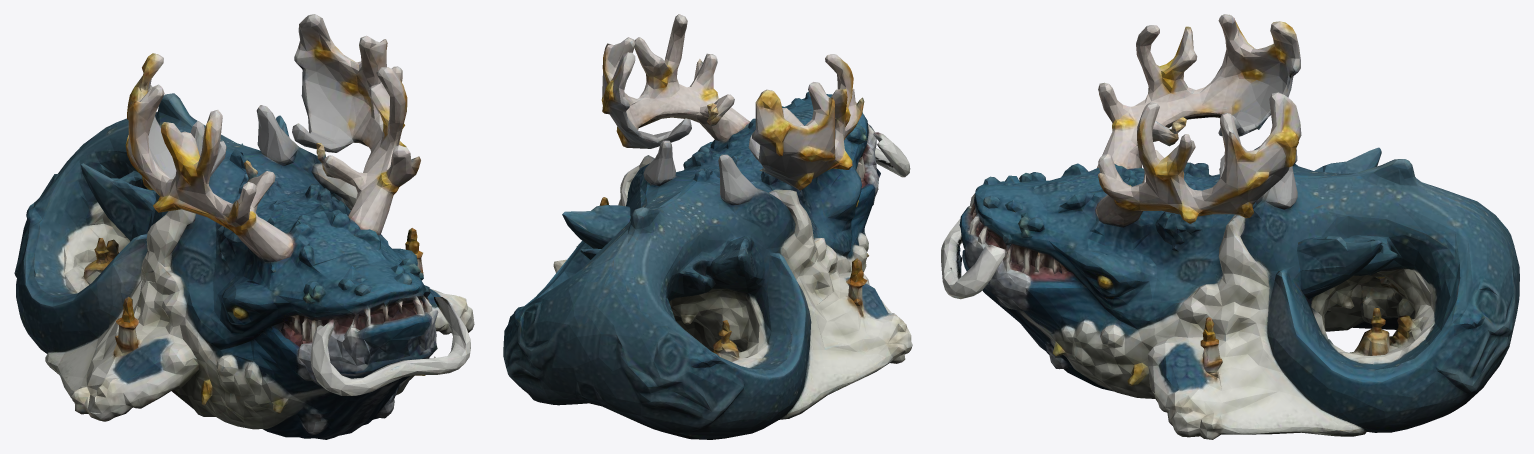
File: sunkenhorn__moonSwallower.glb
3 views of the same model, side by side, from view 1: azimuth 30°, elevation 25°; view 2: azimuth 150°, elevation 25°; view 3: azimuth 270°, elevation 25° (orthographic). The views are drawn at different scales.
Visible parts, largest first — view 1: world; view 2: world; view 3: world.
Boxes of the visible parts, x1,y1,x2,y2 form: world: (14,14,474,439); world: (503,14,912,439); world: (941,14,1519,439).
Bounding box in the file's own units: 0.7546 × 0.6213 × 0.9987.
1 material, 1 textured.
